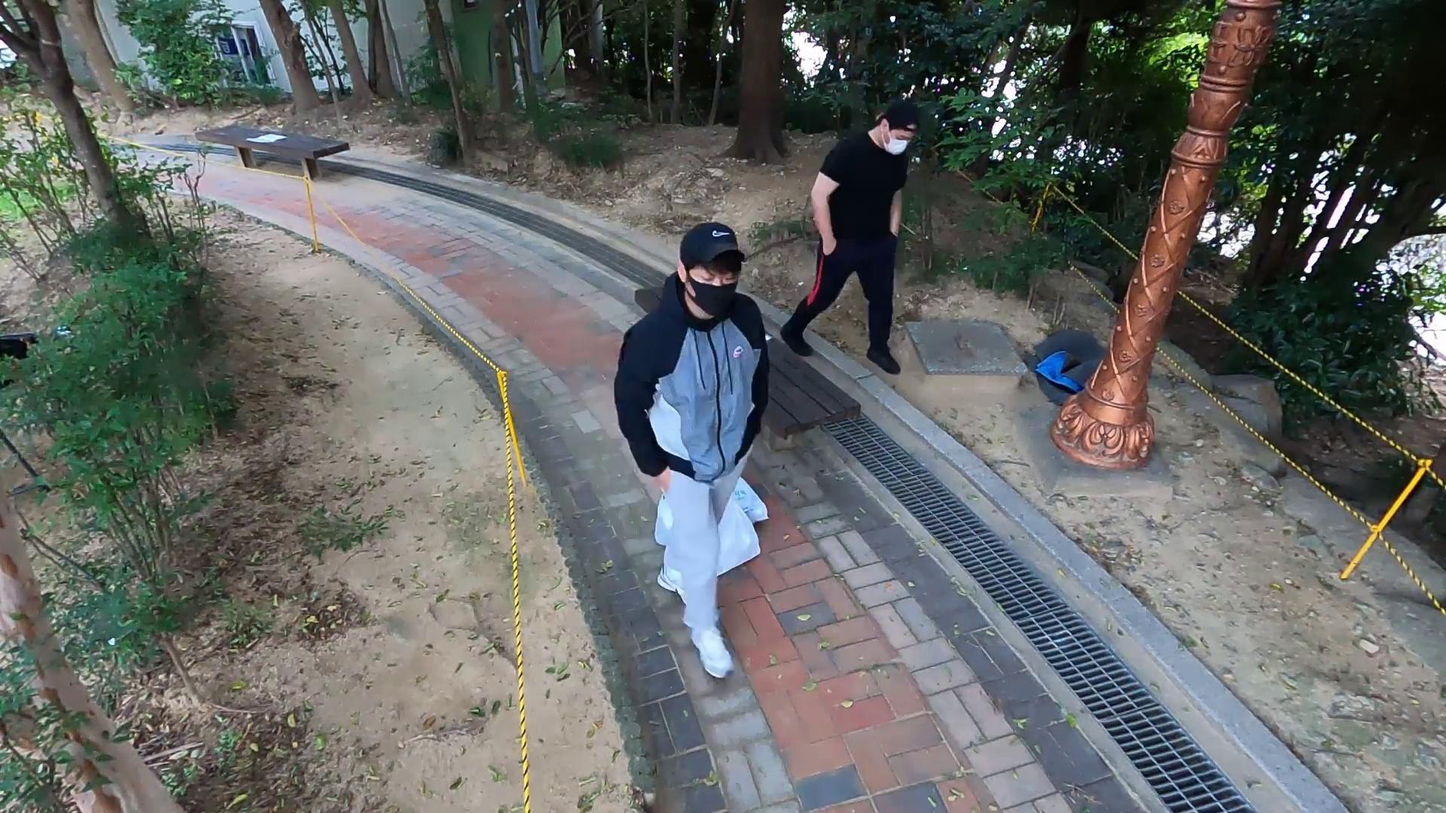person: (612, 220, 792, 691), (781, 104, 925, 373)
trash: (655, 482, 761, 590), (648, 454, 771, 546), (1020, 316, 1123, 403)
